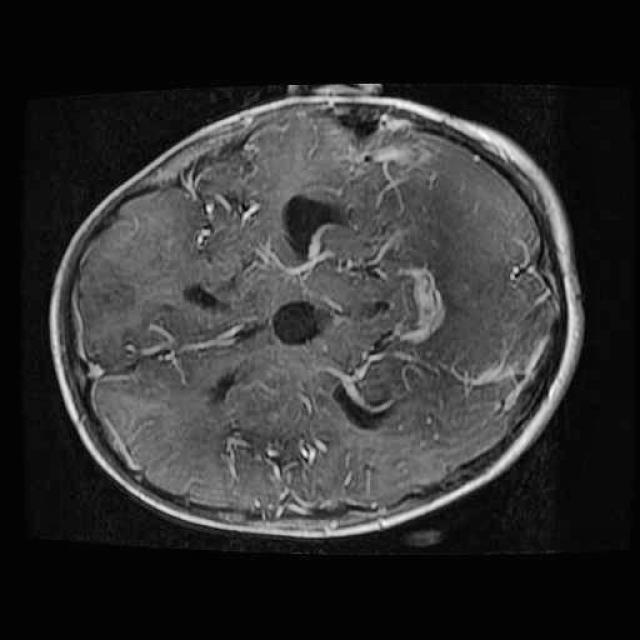Tumor: (247, 172, 377, 276)
